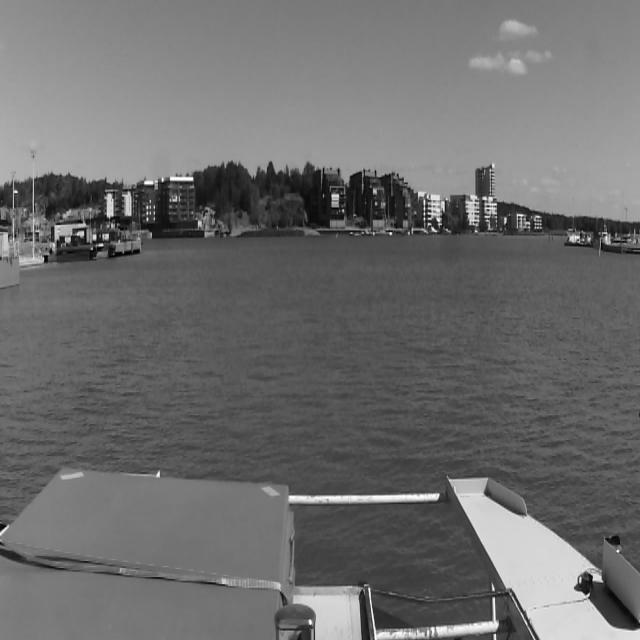buoy: (597, 236, 602, 258), (335, 232, 339, 240)
